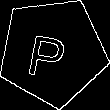P_N: (30, 23, 75, 80)
